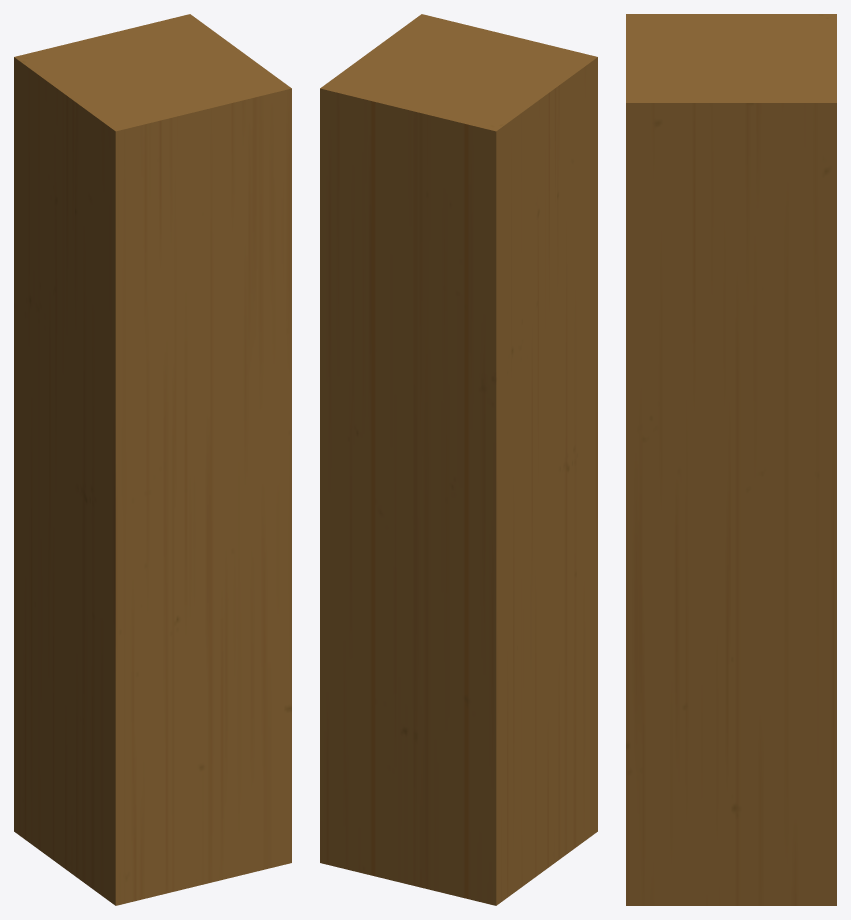
File: Pillar.fbx
The picture shows the model from 3 angles, left to right: view 1: azimuth 30°, elevation 25°; view 2: azimuth 150°, elevation 25°; view 3: azimuth 270°, elevation 25°; orthographic projection. The views are drawn at different scales.
Parts seen in each view (by area): view 1: Pillar.001; view 2: Pillar.001; view 3: Pillar.001.
Boxes of the visible parts, x1,y1,x2,y2 form: Pillar.001: (14, 14, 291, 905); Pillar.001: (320, 14, 597, 905); Pillar.001: (626, 14, 836, 905).
Size of the model in its own units: 50 by 210 by 50.
